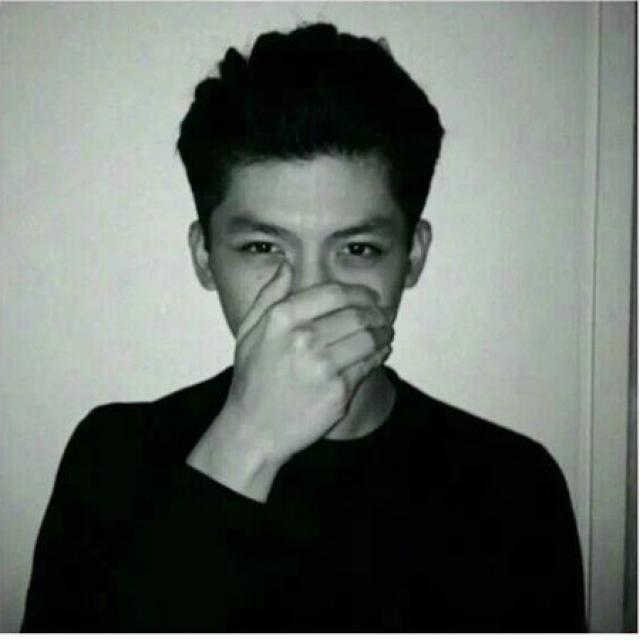nomask: (210, 164, 404, 390)
